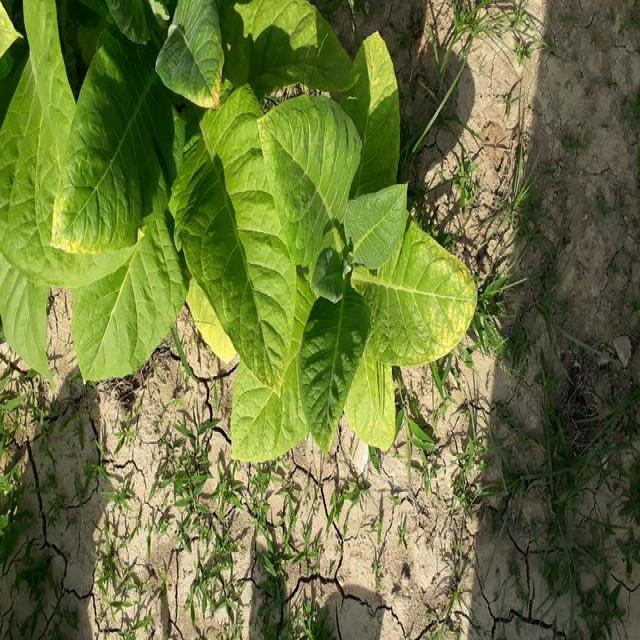crop: (0, 0, 478, 453)
